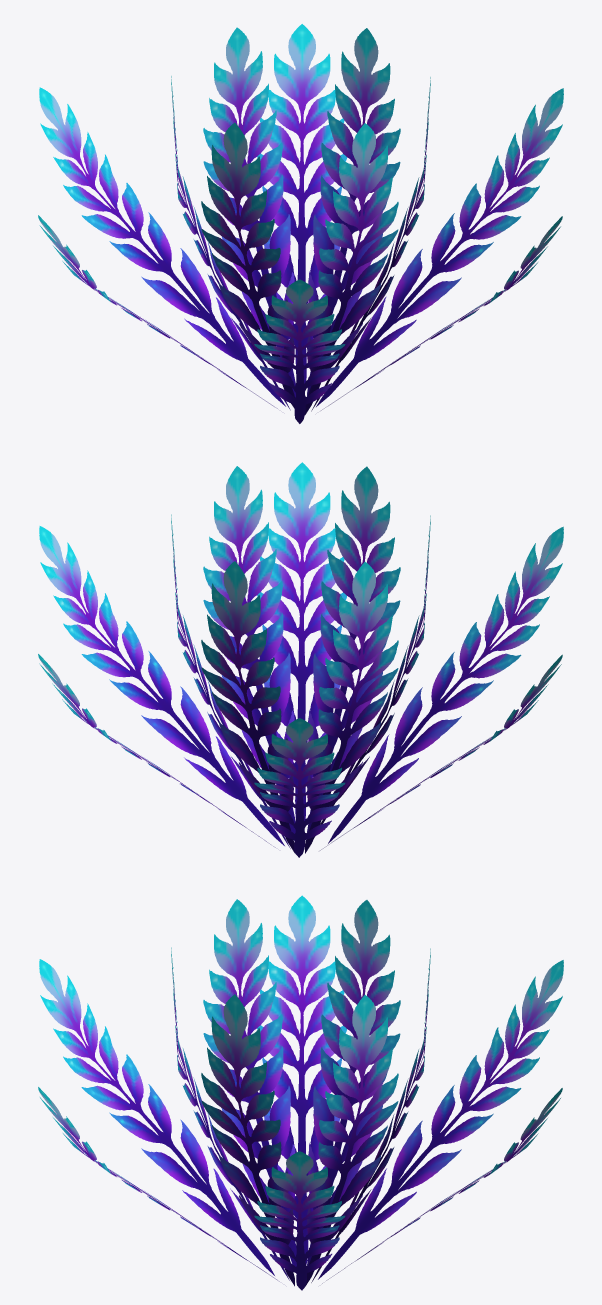
Rendered from Bush_02b.FBX.
3 views of the same model, one above another, from view 1: azimuth 30°, elevation 25°; view 2: azimuth 150°, elevation 25°; view 3: azimuth 270°, elevation 25° (orthographic).
Parts seen in each view (by area): view 1: Bush_02b; view 2: Bush_02b; view 3: Bush_02b.
Part boxes in pixels (left/top/right/bottom): Bush_02b: left=38, top=24, right=563, bottom=423; Bush_02b: left=38, top=462, right=563, bottom=857; Bush_02b: left=38, top=895, right=563, bottom=1290.
Bounding box in the file's own units: 228 × 140 × 215.
